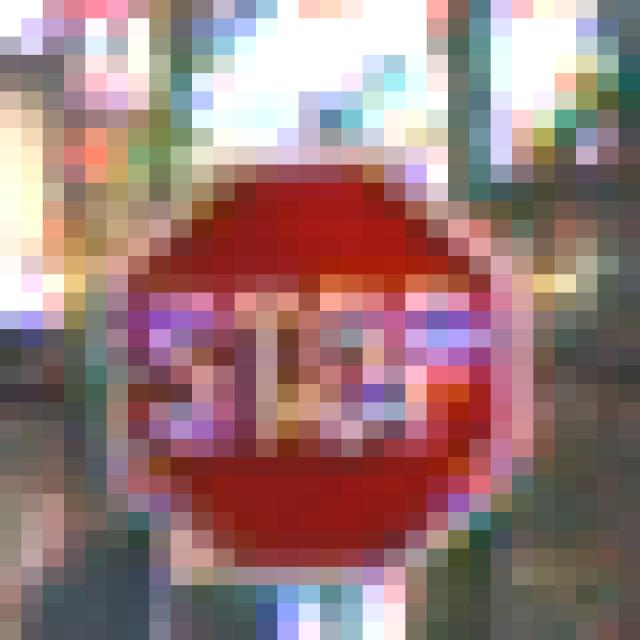STOP: (108, 111, 534, 550)
